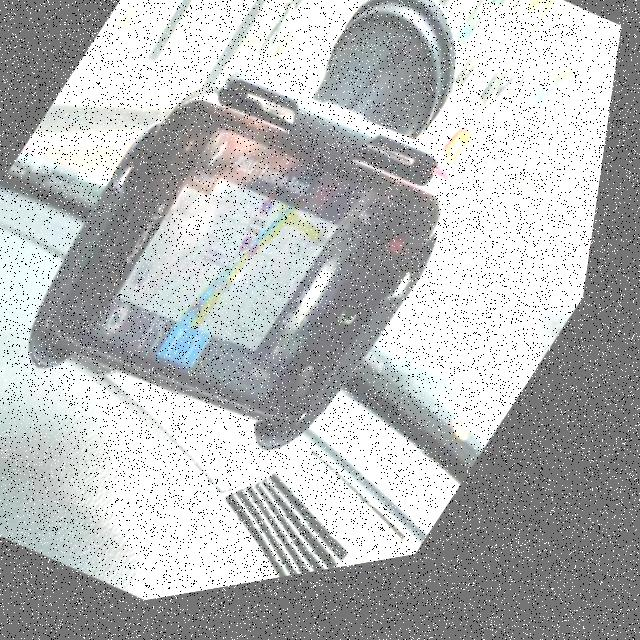license_plate: (480, 172, 580, 256)
